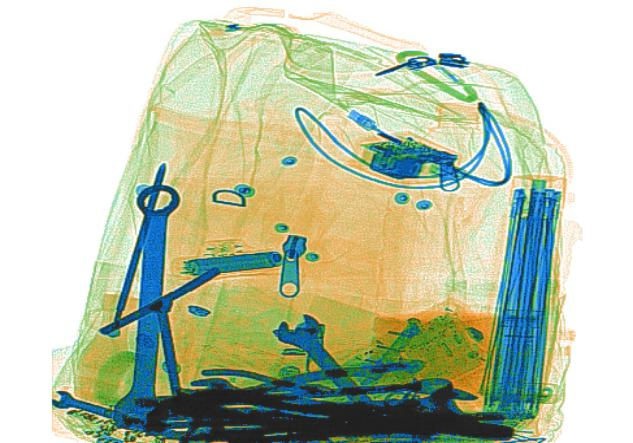battery: (187, 250, 285, 277)
